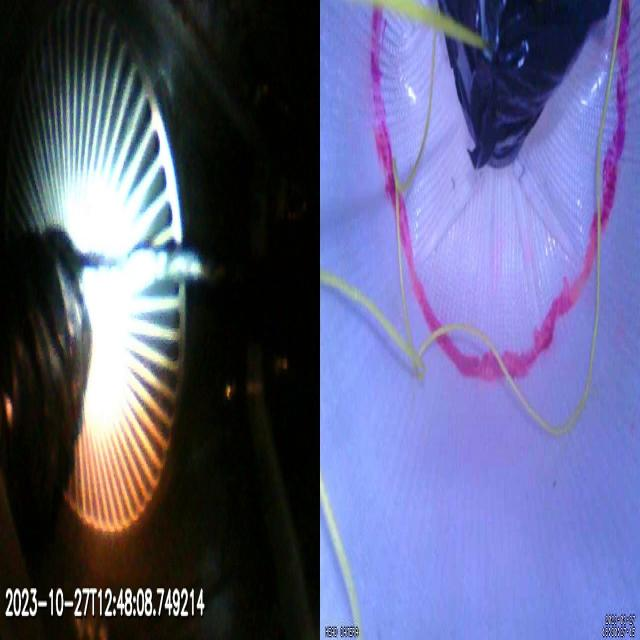red-circle: (369, 0, 630, 384)
